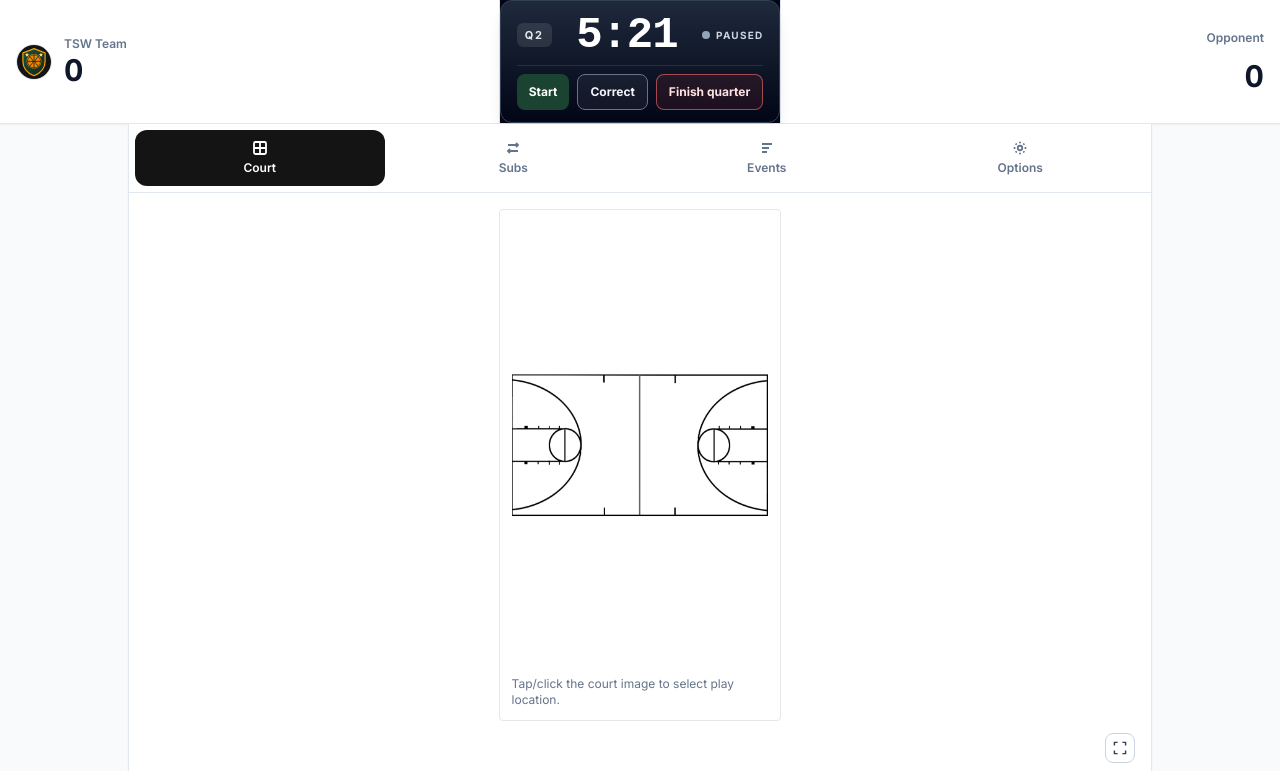
Test case: GameTrackPage › records a one-sided non-shot command with the recognition-start clock snapshot
The width and height of the screenshot is (1280, 771).
Step 1. Click the button "Options" → (1020, 158), box x1=896 y1=130 x2=1145 y2=186
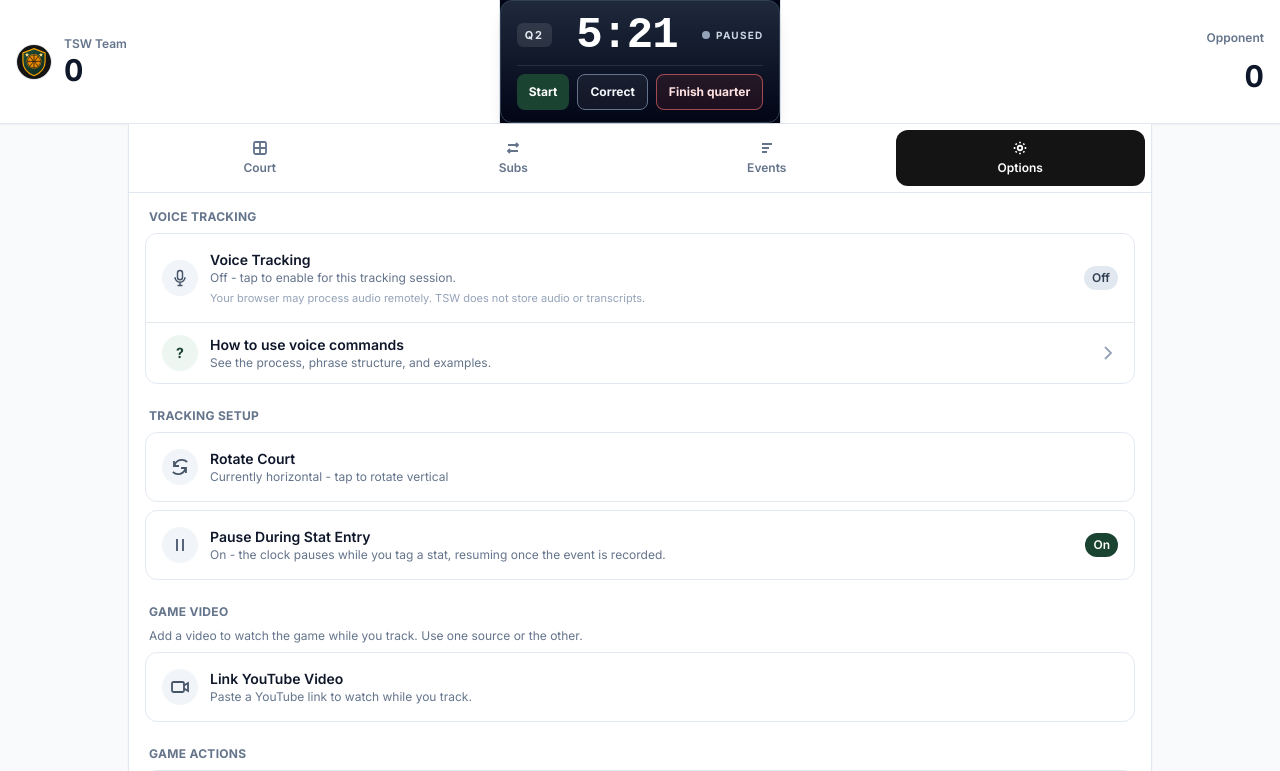
Step 2. Click the button "Voice Tracking" → (180, 278), box x1=146 y1=234 x2=1134 y2=322
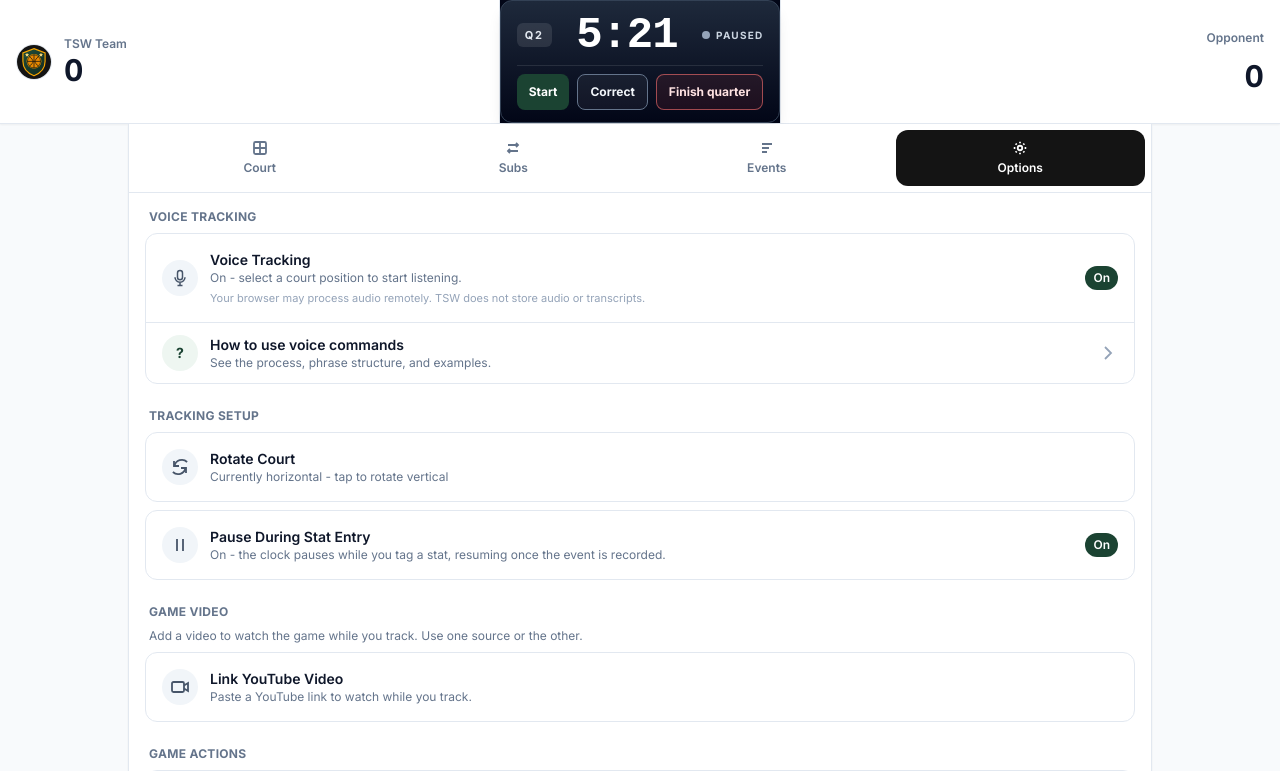
Step 3. Click the button "Court" → (260, 158), box x1=135 y1=130 x2=384 y2=186
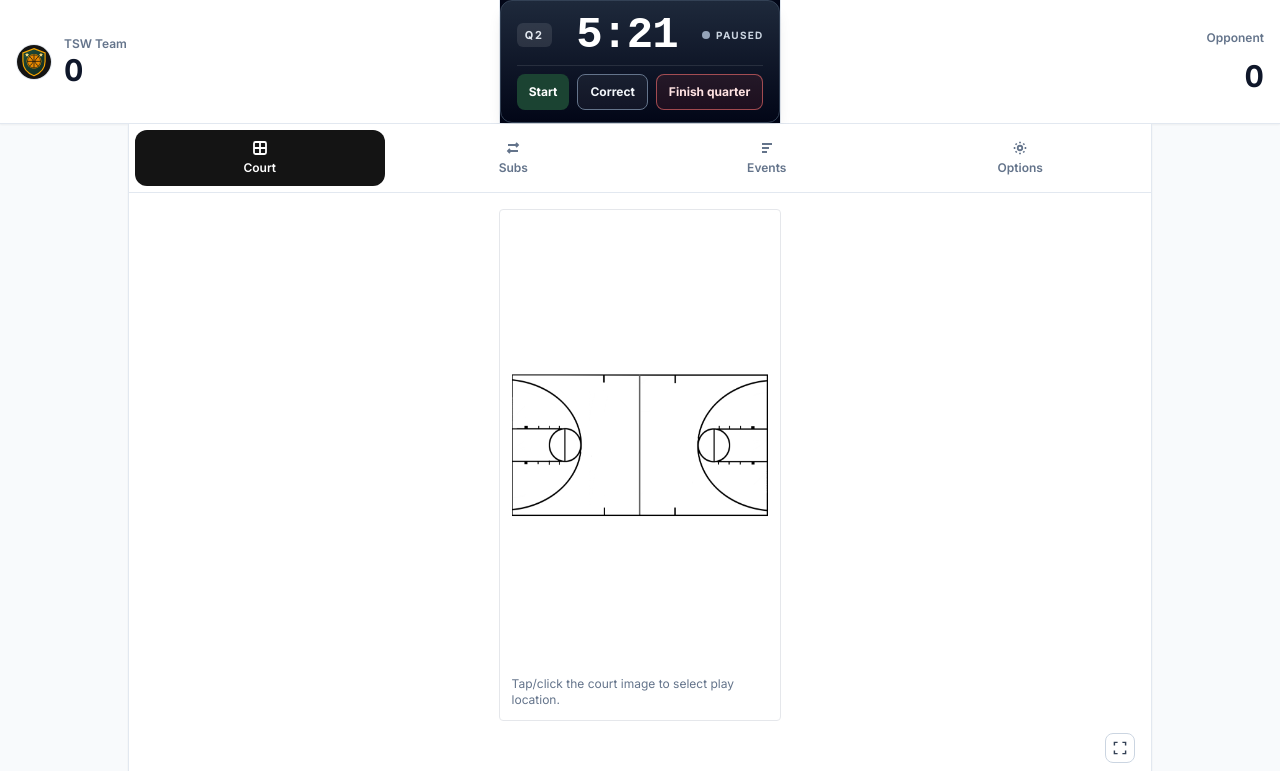
Step 4. Press the mouse on the picture with test id "interactive-court-image" → (640, 445), box x1=512 y1=374 x2=768 y2=516
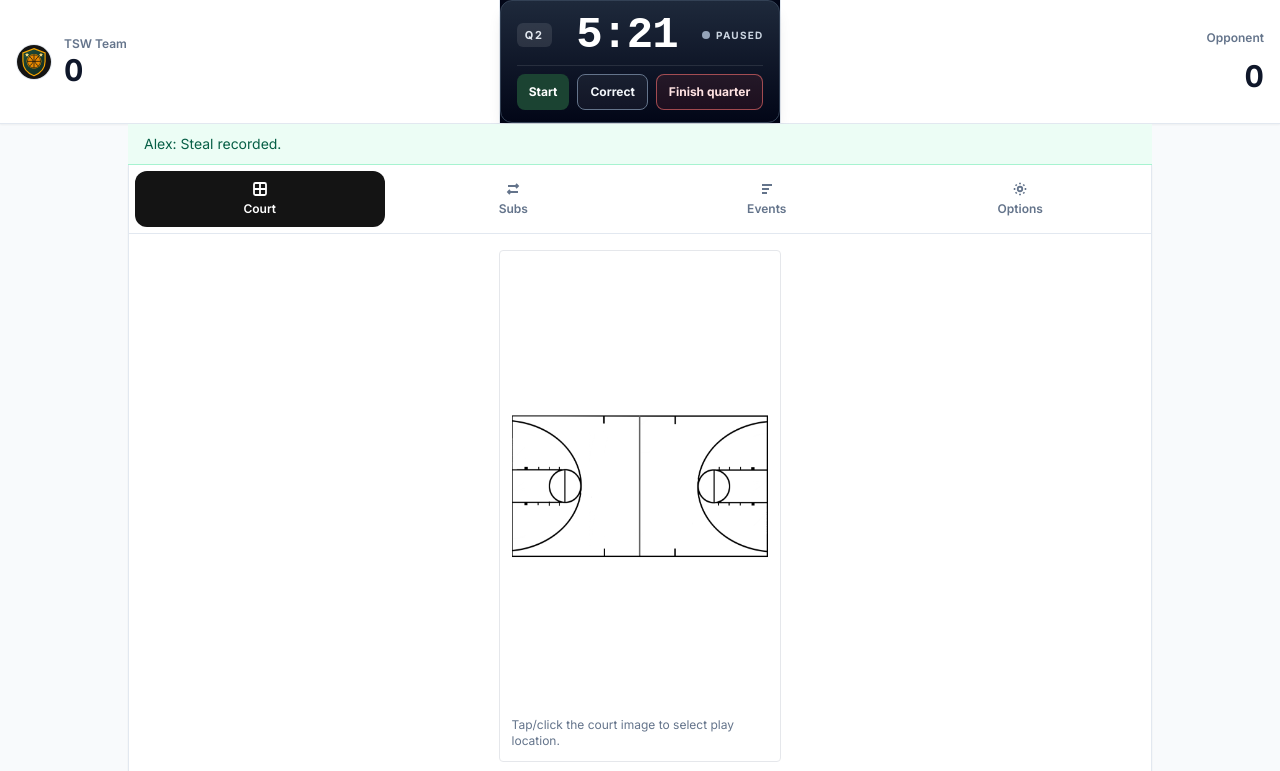
Now the text "Alex: Steal recorded." is shown, box x1=128 y1=124 x2=1152 y2=165
